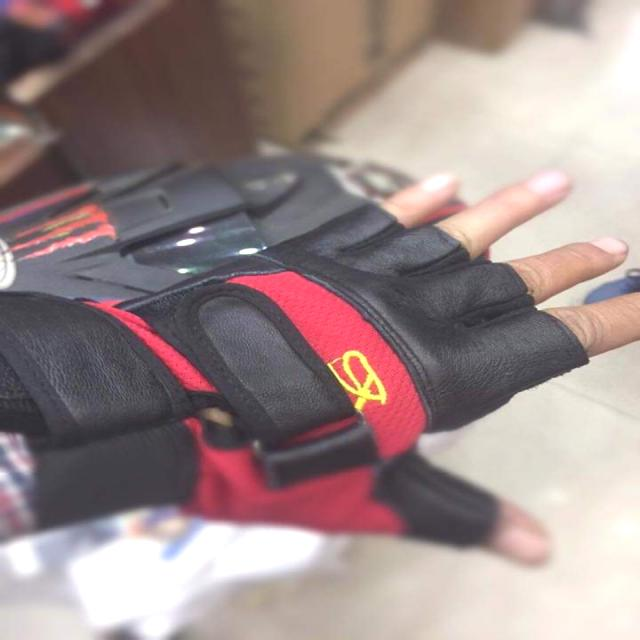glove: (1, 164, 640, 571)
